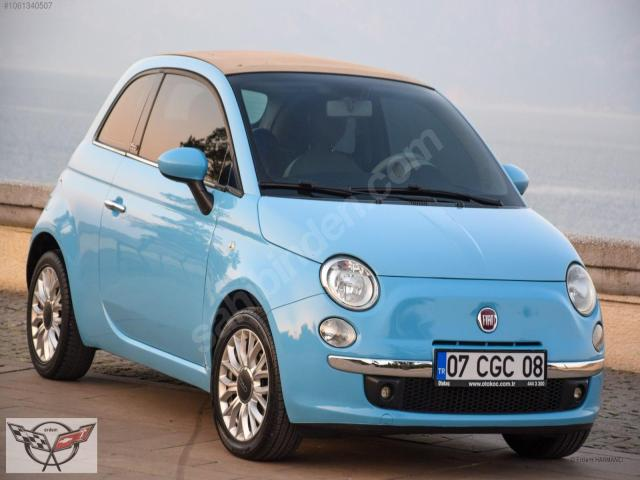plaka: (434, 349, 546, 386)
